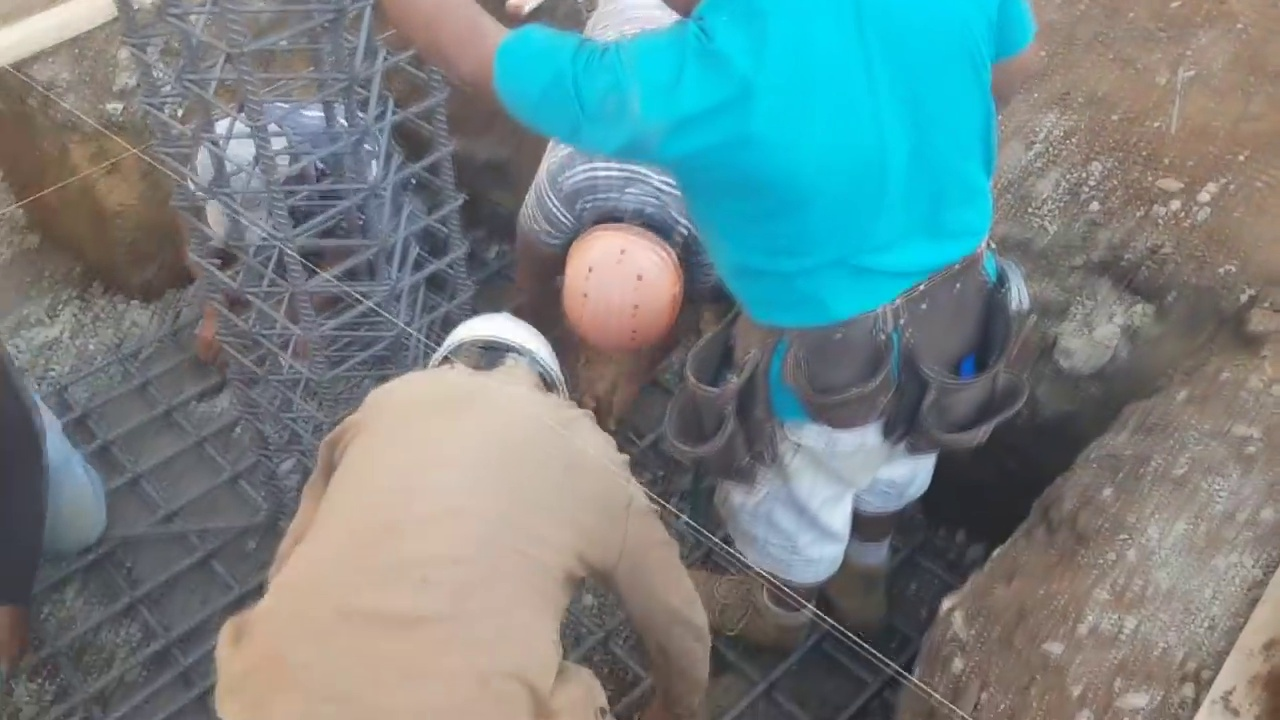helmet: (557, 224, 685, 353)
helmet-off: (194, 119, 297, 248)
helmet-on: (423, 312, 569, 396)
person: (380, 0, 1036, 642), (202, 311, 715, 716), (180, 88, 421, 353), (511, 139, 738, 389)
